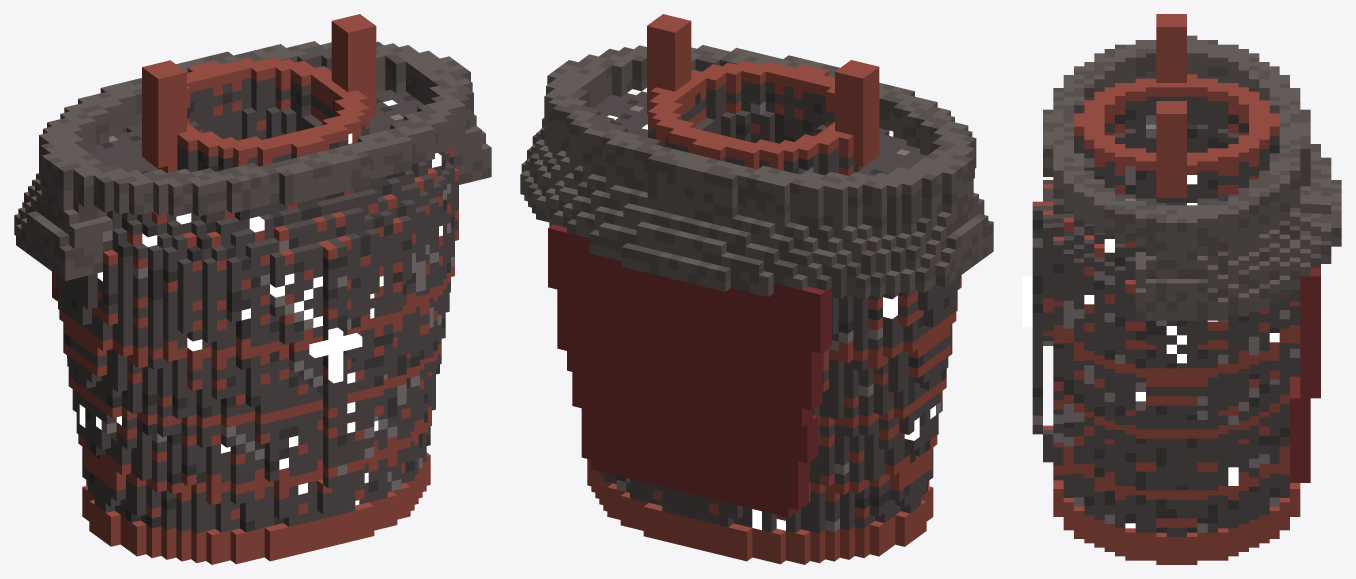
The model's file is plate_masterwork_chest.glb.
3 views of the same model, side by side, from view 1: azimuth 30°, elevation 25°; view 2: azimuth 150°, elevation 25°; view 3: azimuth 270°, elevation 25° (orthographic). The views are drawn at different scales.
Visible parts, largest first — view 1: plate_masterwork_chest; view 2: plate_masterwork_chest; view 3: plate_masterwork_chest.
Boxes of the visible parts, box(x1,y1,x2,y2) form: plate_masterwork_chest: box(14, 14, 491, 564); plate_masterwork_chest: box(520, 14, 993, 564); plate_masterwork_chest: box(1022, 14, 1341, 564).
Size of the model in its own units: 0.54 by 0.552 by 0.372.
